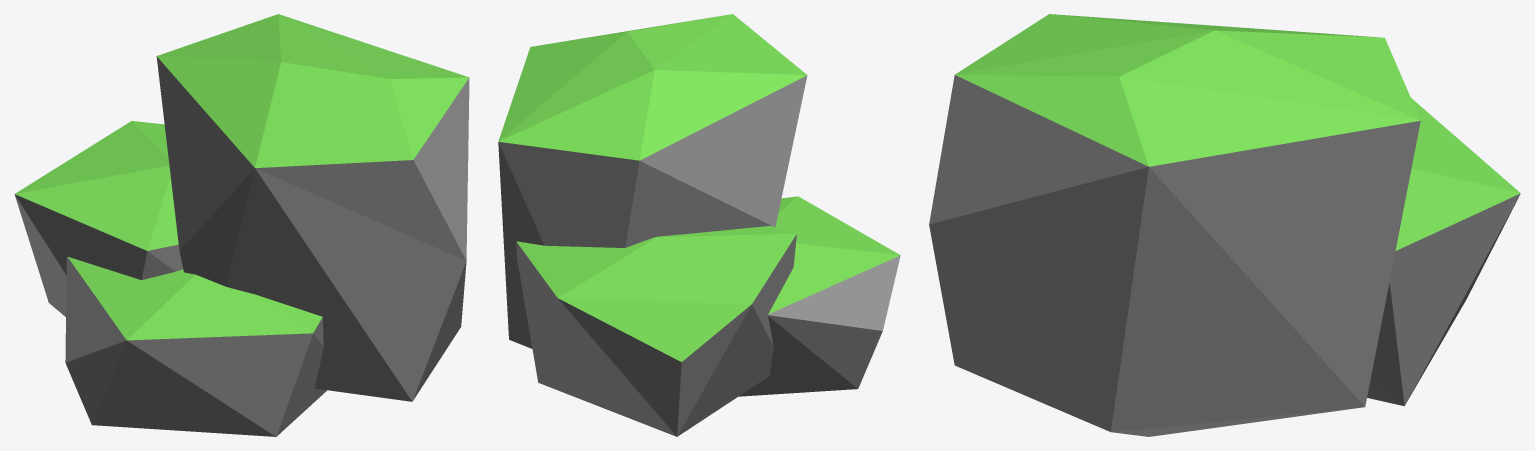
File: Cliff_1.fbx
3 views of the same model, side by side, from view 1: azimuth 30°, elevation 25°; view 2: azimuth 150°, elevation 25°; view 3: azimuth 270°, elevation 25° (orthographic). The views are drawn at different scales.
Parts seen in each view (by area): view 1: Cliff_1; view 2: Cliff_1; view 3: Cliff_1.
Part boxes in pixels (left/top/right/bottom): Cliff_1: left=14, top=14, right=469, bottom=436; Cliff_1: left=498, top=14, right=900, bottom=436; Cliff_1: left=929, top=14, right=1520, bottom=436.
Size of the model in its own units: 330 by 266 by 359.
